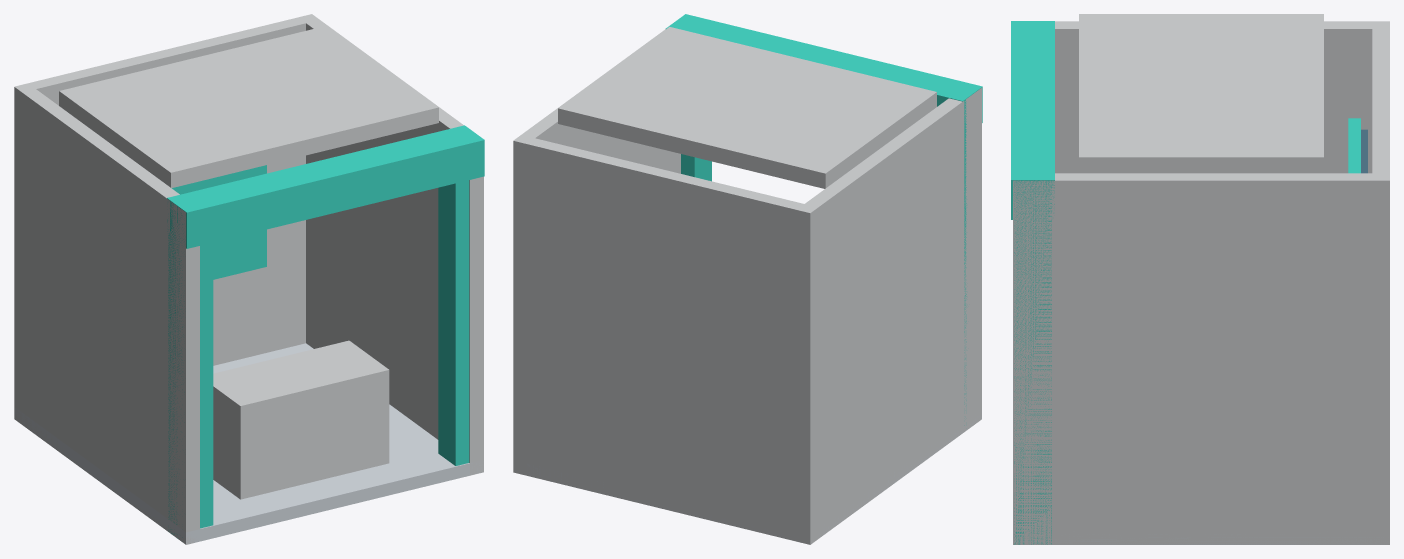
The picture shows the model from 3 angles, left to right: view 1: azimuth 30°, elevation 25°; view 2: azimuth 150°, elevation 25°; view 3: azimuth 270°, elevation 25°; orthographic projection. The views are drawn at different scales.
Parts seen in each view (by area): view 1: Exhibition Booth Concept; view 2: Exhibition Booth Concept; view 3: Exhibition Booth Concept.
Part boxes in pixels (bbox=[...]): Exhibition Booth Concept: bbox=[14, 14, 484, 544]; Exhibition Booth Concept: bbox=[513, 14, 982, 544]; Exhibition Booth Concept: bbox=[1011, 14, 1389, 544].
Bounding box in the file's own units: 3 × 3.34 × 3.01.
